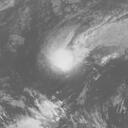cyclone: (42, 38, 81, 74)
